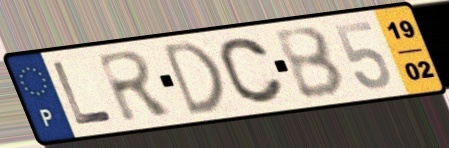5: (330, 18, 394, 91)
B: (271, 23, 350, 102)
C: (217, 36, 289, 107)
D: (159, 38, 229, 119)
L: (49, 59, 118, 128)
R: (93, 48, 178, 125)
